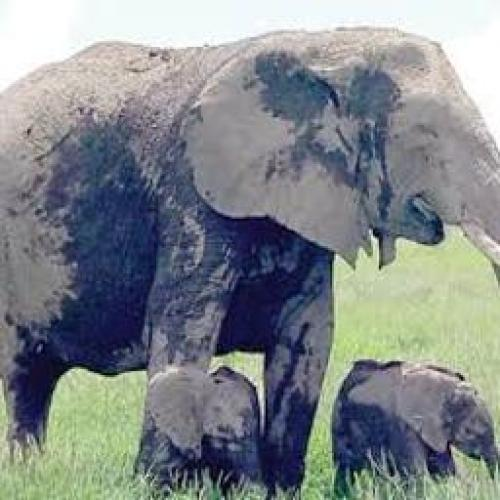african_elephant-endangered: (0, 39, 500, 477), (331, 352, 495, 490), (143, 358, 266, 488)
